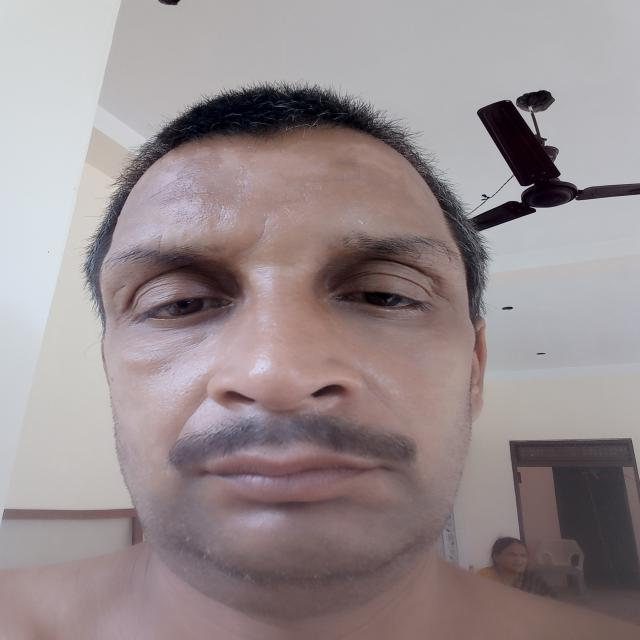Englarged-Pores: (166, 166, 226, 232), (151, 358, 188, 393)
Wrinkles: (154, 148, 256, 172), (366, 382, 408, 429), (127, 332, 207, 354), (173, 395, 209, 443), (161, 169, 222, 187), (160, 190, 211, 203), (254, 214, 272, 250), (142, 187, 164, 204), (109, 284, 128, 298), (432, 291, 454, 303), (234, 245, 252, 258), (156, 230, 166, 250)
